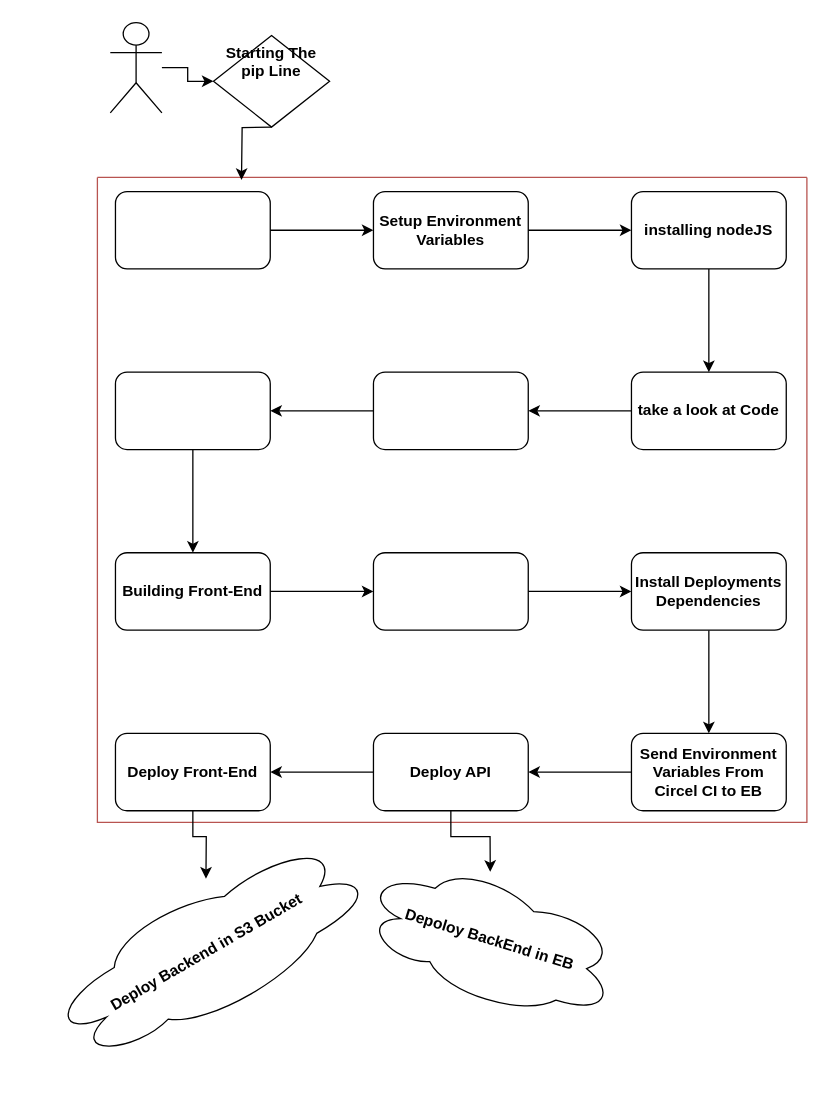
The diagram is 831 pixels wide and 1120 high, and some of its shapes have lost their labels. Each missing label, with the centre of its shape:
"Building API" goes at pixel 450 590.
"Commit Change" goes at pixel 135 67.
"Install API Dependencies" goes at pixel 192 410.
"install Front-End Dependencies" goes at pixel 450 410.
"Set up Environment" goes at pixel 192 229.
